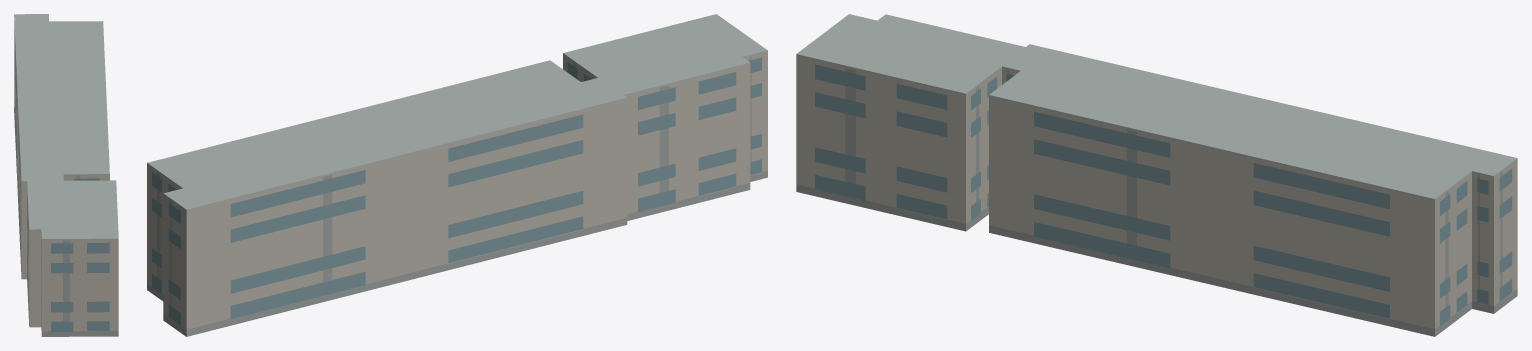
File: survey-upis-32772507.glb
The picture shows the model from 3 angles, left to right: view 1: azimuth 30°, elevation 25°; view 2: azimuth 150°, elevation 25°; view 3: azimuth 270°, elevation 25°; orthographic projection. The views are drawn at different scales.
Parts seen in each view (by area): view 1: survey-upis-32772507.tmp; view 2: survey-upis-32772507.tmp; view 3: survey-upis-32772507.tmp.
Boxes of the visible parts, x1,y1,x2,y2 form: survey-upis-32772507.tmp: (14, 14, 118, 336); survey-upis-32772507.tmp: (147, 14, 767, 336); survey-upis-32772507.tmp: (796, 14, 1517, 336).
Size of the model in its own units: 43.94 by 15.25 by 72.36.
